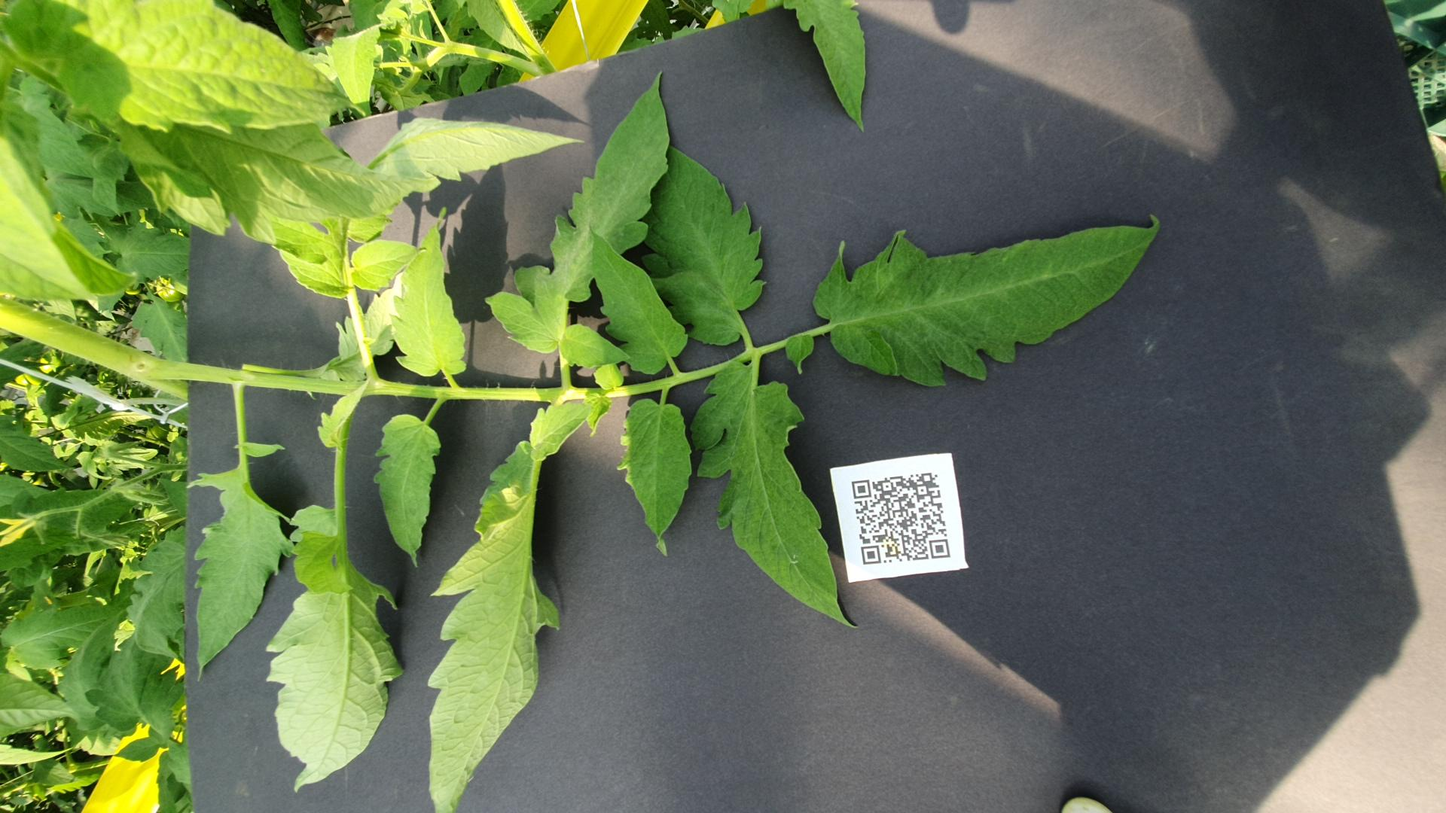Healthy: (0, 239, 742, 335), (752, 456, 1068, 654), (913, 154, 1242, 331), (788, 270, 1321, 377), (1205, 0, 1446, 199), (329, 387, 807, 483), (1005, 62, 1229, 246), (40, 150, 549, 227), (829, 361, 1190, 433), (230, 104, 620, 164), (778, 331, 1044, 387), (775, 219, 1078, 264), (451, 346, 743, 390), (1206, 439, 1446, 488), (434, 209, 714, 249), (136, 46, 320, 104), (254, 0, 371, 70), (274, 70, 511, 104), (1126, 17, 1254, 58), (947, 62, 1053, 106), (801, 73, 920, 105), (602, 0, 684, 40), (87, 63, 140, 91)
